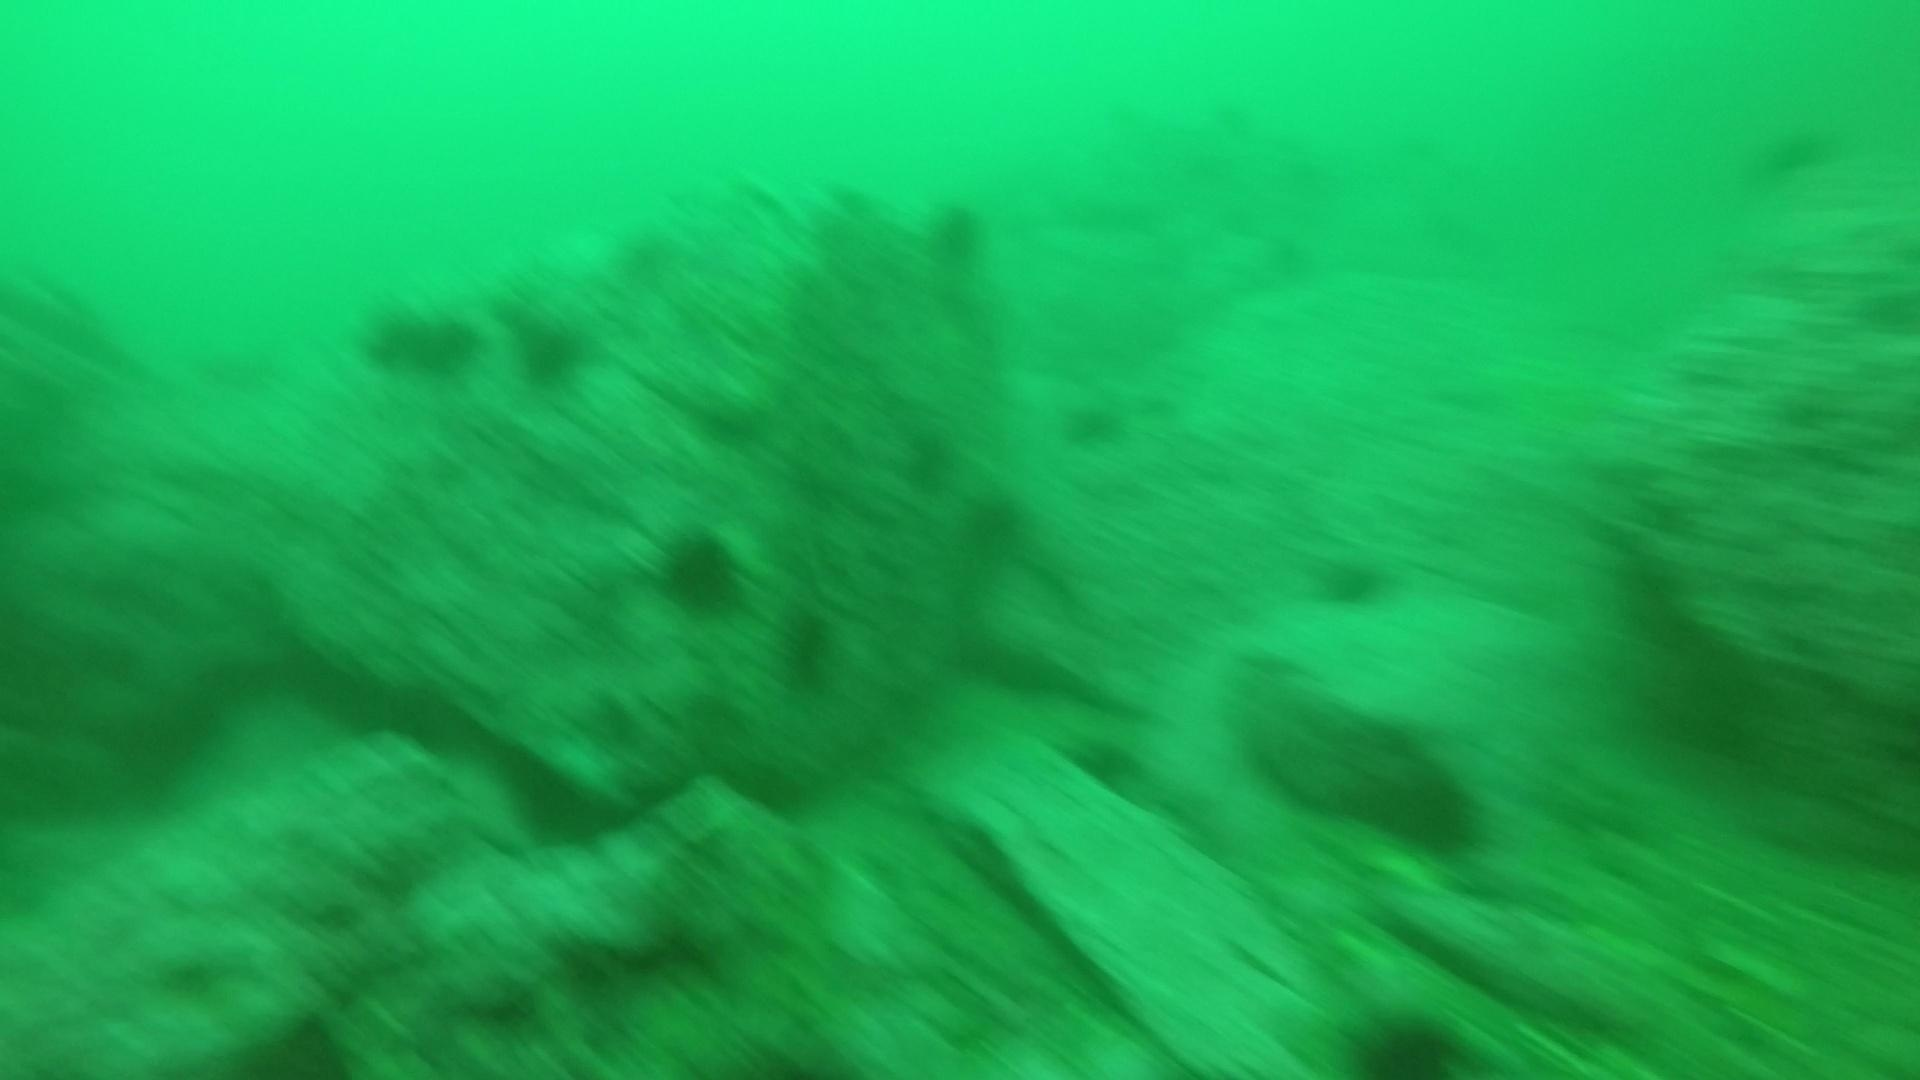echinus: (1357, 752, 1486, 860), (359, 295, 483, 381), (649, 522, 749, 618), (1340, 1005, 1470, 1077), (508, 307, 592, 390), (770, 603, 844, 694), (1309, 545, 1396, 615), (955, 485, 1033, 560), (919, 195, 993, 272), (1058, 393, 1131, 454)
